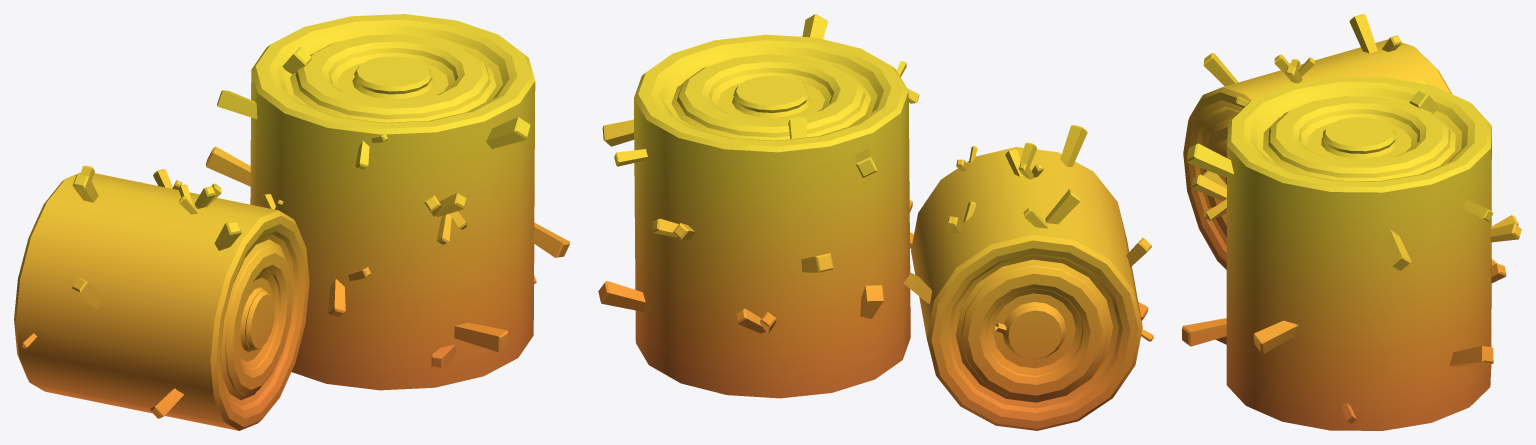
File: hay-forest-37.glb
3 renders of one model, left to right at view 1: azimuth 30°, elevation 25°; view 2: azimuth 150°, elevation 25°; view 3: azimuth 270°, elevation 25°, orthographic. The views are drawn at different scales.
Parts seen in each view (by area): view 1: piece; view 2: piece; view 3: piece.
Boxes of the visible parts, <box> form: piece: <box>14,14,569,430</box>; piece: <box>598,14,1153,430</box>; piece: <box>1182,14,1521,430</box>.
Size of the model in its own units: 1.7 by 0.8199 by 0.9891.
1 material, 1 textured.
